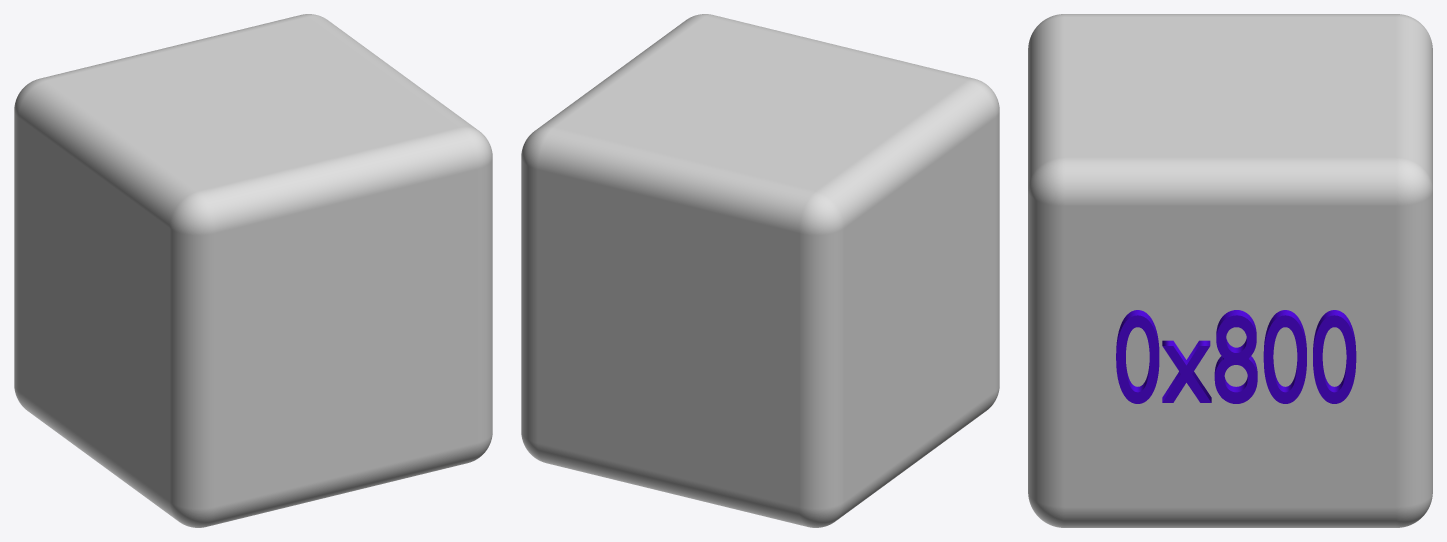
The model's file is Instr33.fbx.
3 renders of one model, left to right at view 1: azimuth 30°, elevation 25°; view 2: azimuth 150°, elevation 25°; view 3: azimuth 270°, elevation 25°, orthographic. The views are drawn at different scales.
Parts seen in each view (by area): view 1: Cube; view 2: Cube; view 3: Cube, Text.
Boxes of the visible parts, left/top/right/bottom form: Cube: left=14, top=14, right=492, bottom=527; Cube: left=521, top=14, right=999, bottom=527; Cube: left=1028, top=14, right=1432, bottom=527; Text: left=1116, top=310, right=1356, bottom=403.
Size of the model in its own units: 69.29 by 67.15 by 67.15.
